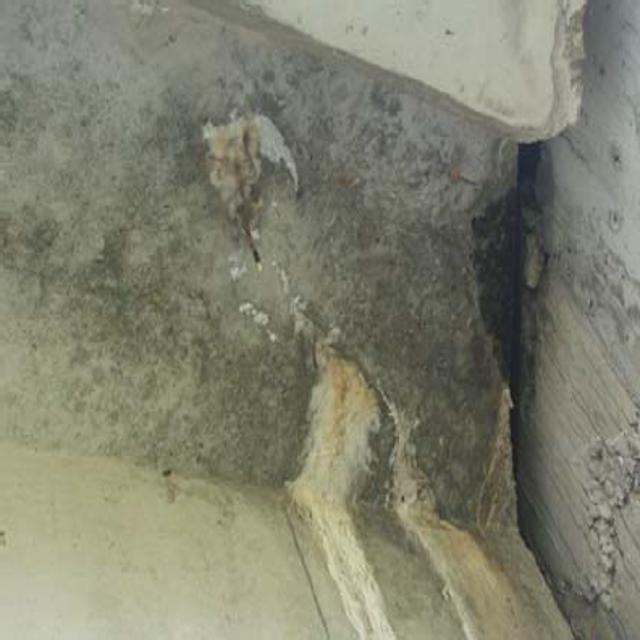freelime: (263, 323, 530, 640), (193, 107, 317, 223)
